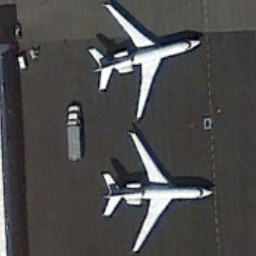Airplane: (95, 129, 219, 256), (83, 1, 210, 123)
